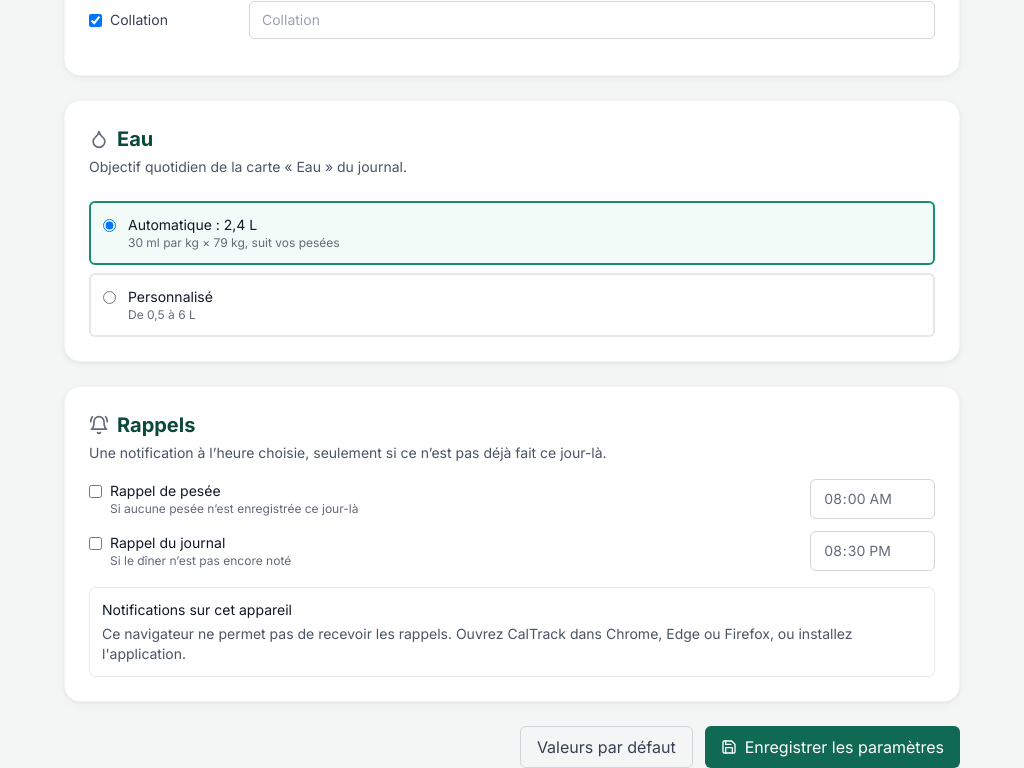
Test: SettingsPage › signale un échec d’enregistrement
(page scrolled)
Click the button "Enregistrer les paramètres" at (832, 747), box [705,726,960,767]
(page scrolled)
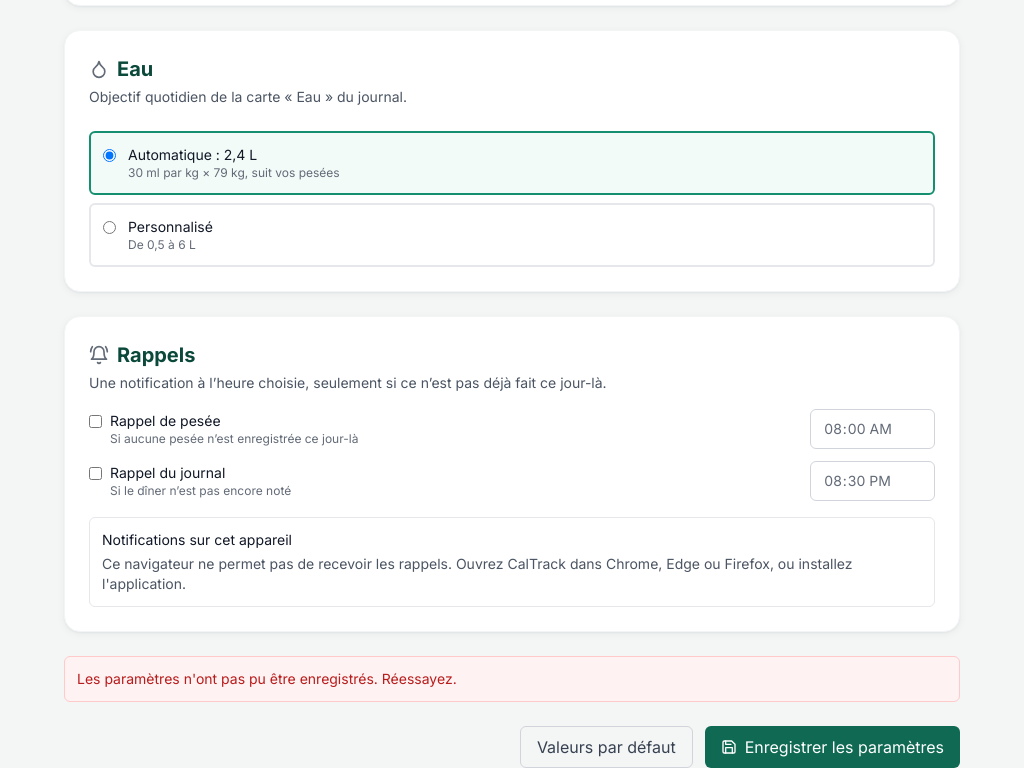
Check: the message shows "n'ont pas pu être enregistrés", box [77,670,457,687]
